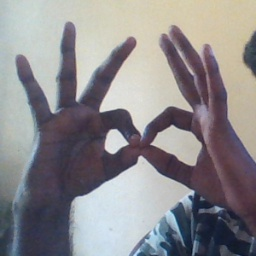B: (94, 67, 208, 187)
